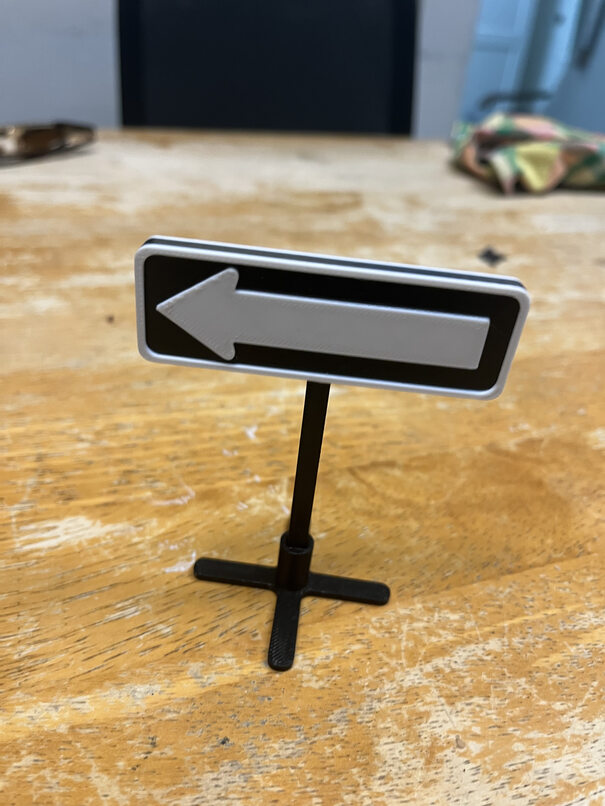sign_oneway_left: (131, 235, 532, 410)
